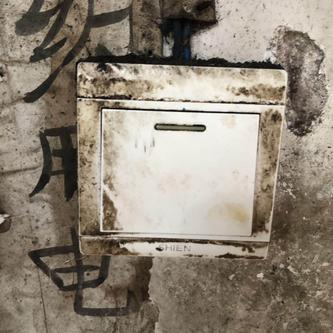switch: (94, 104, 261, 242)
